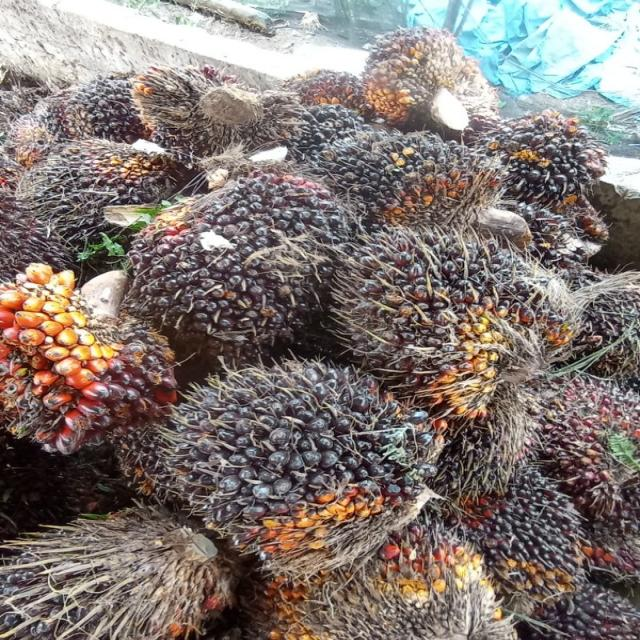fraksi 00: (156, 362, 434, 559), (329, 204, 591, 409), (108, 171, 351, 342), (440, 452, 602, 604), (320, 122, 512, 239), (22, 134, 182, 248), (465, 104, 608, 215)
fraksi 1: (0, 256, 172, 462)
